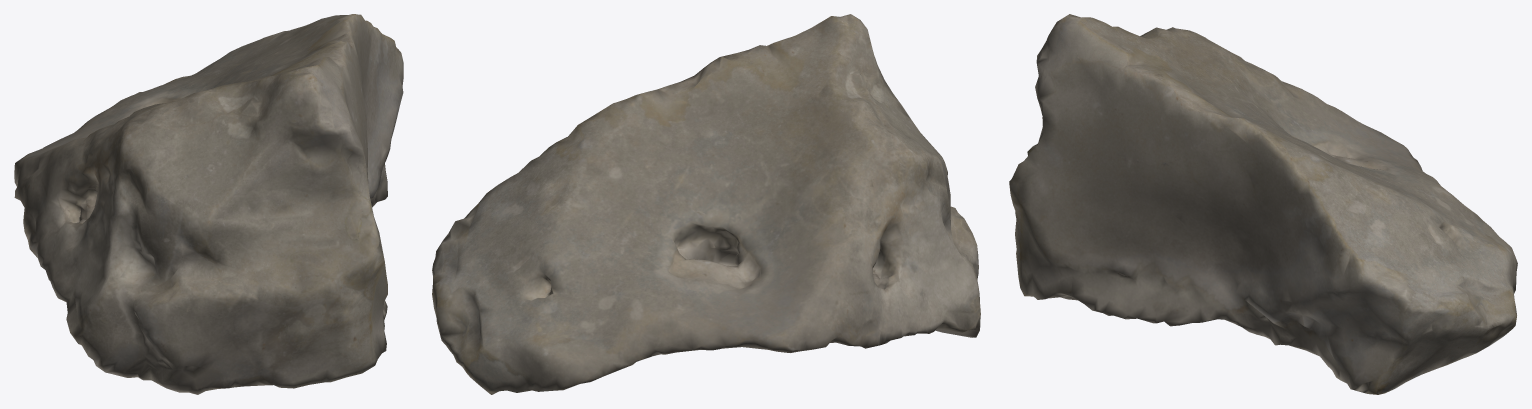
The model's file is moon_rock_06_4k.fbx.
3 views of the same model, side by side, from view 1: azimuth 30°, elevation 25°; view 2: azimuth 150°, elevation 25°; view 3: azimuth 270°, elevation 25° (orthographic). The views are drawn at different scales.
Visible parts, largest first — view 1: moon_rock_06_LOD0; view 2: moon_rock_06_LOD0; view 3: moon_rock_06_LOD0.
Part boxes in pixels (x1,y1,x2,y2): moon_rock_06_LOD0: [14, 14, 403, 394]; moon_rock_06_LOD0: [432, 14, 980, 394]; moon_rock_06_LOD0: [1009, 14, 1517, 394].
Bounding box in the file's own units: 8.57 × 5.5 × 9.18.
